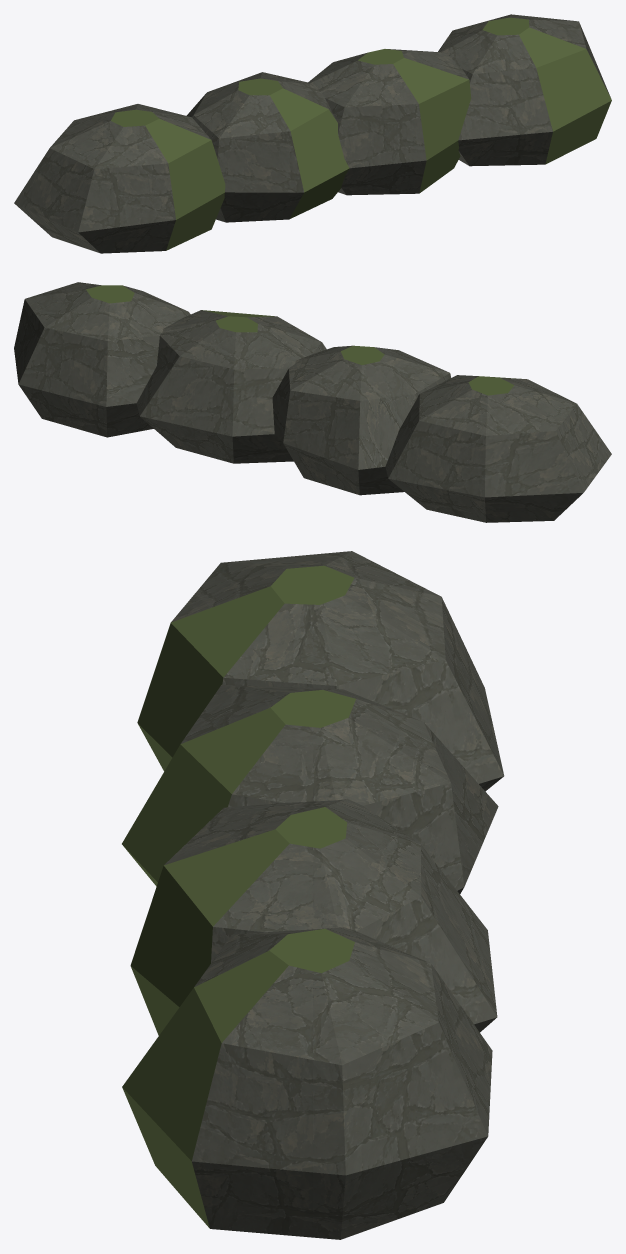
3 views of the same model, one above another, from view 1: azimuth 30°, elevation 25°; view 2: azimuth 150°, elevation 25°; view 3: azimuth 270°, elevation 25° (orthographic). The views are drawn at different scales.
Parts seen in each view (by area): view 1: Weathered faceted boulder; view 2: Weathered faceted boulder; view 3: Weathered faceted boulder.
Boxes of the visible parts, x1=… form: Weathered faceted boulder: x1=14, y1=14, x2=611, y2=253; Weathered faceted boulder: x1=14, y1=282, x2=611, y2=522; Weathered faceted boulder: x1=122, y1=551, x2=504, y2=1239.
Bounding box in the file's own units: 5.48 × 1 × 1.6.
Materials: 2 (1 with a texture image).
